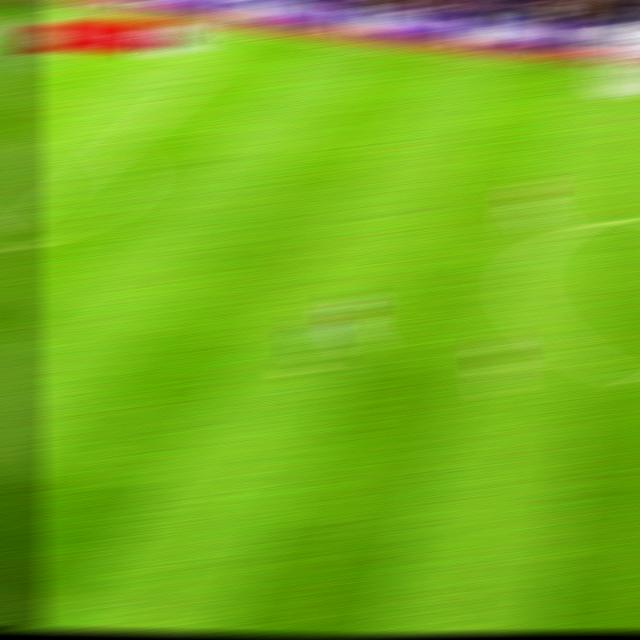bigarea_top_inner: (169, 75, 208, 95)
corner: (46, 1, 89, 11)
top_arc_area_intersection: (94, 139, 132, 158)
